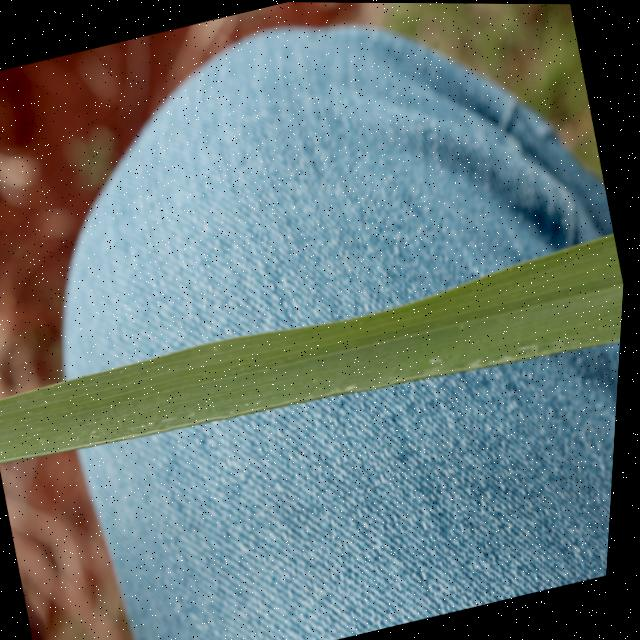healthy_wheat: (0, 221, 630, 508)
